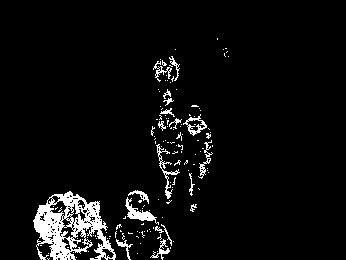person: (114, 189, 173, 260), (182, 104, 214, 213), (66, 194, 118, 259), (152, 107, 184, 205), (34, 191, 73, 260)
